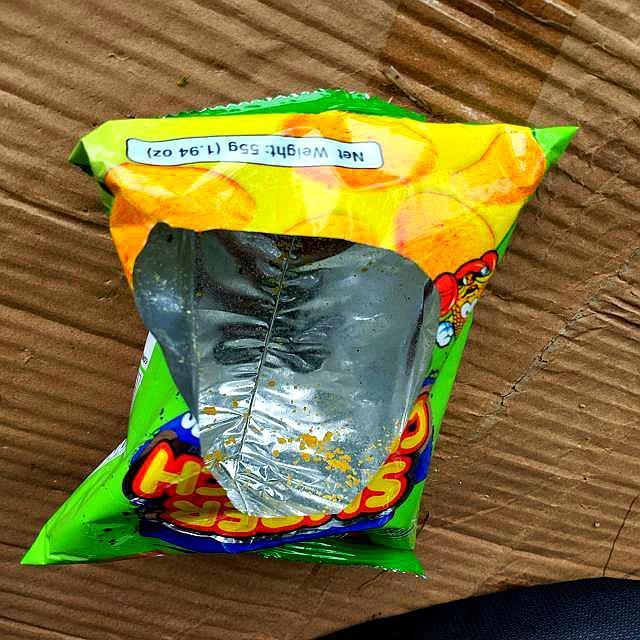Non-biodegradable: (31, 89, 579, 581)
